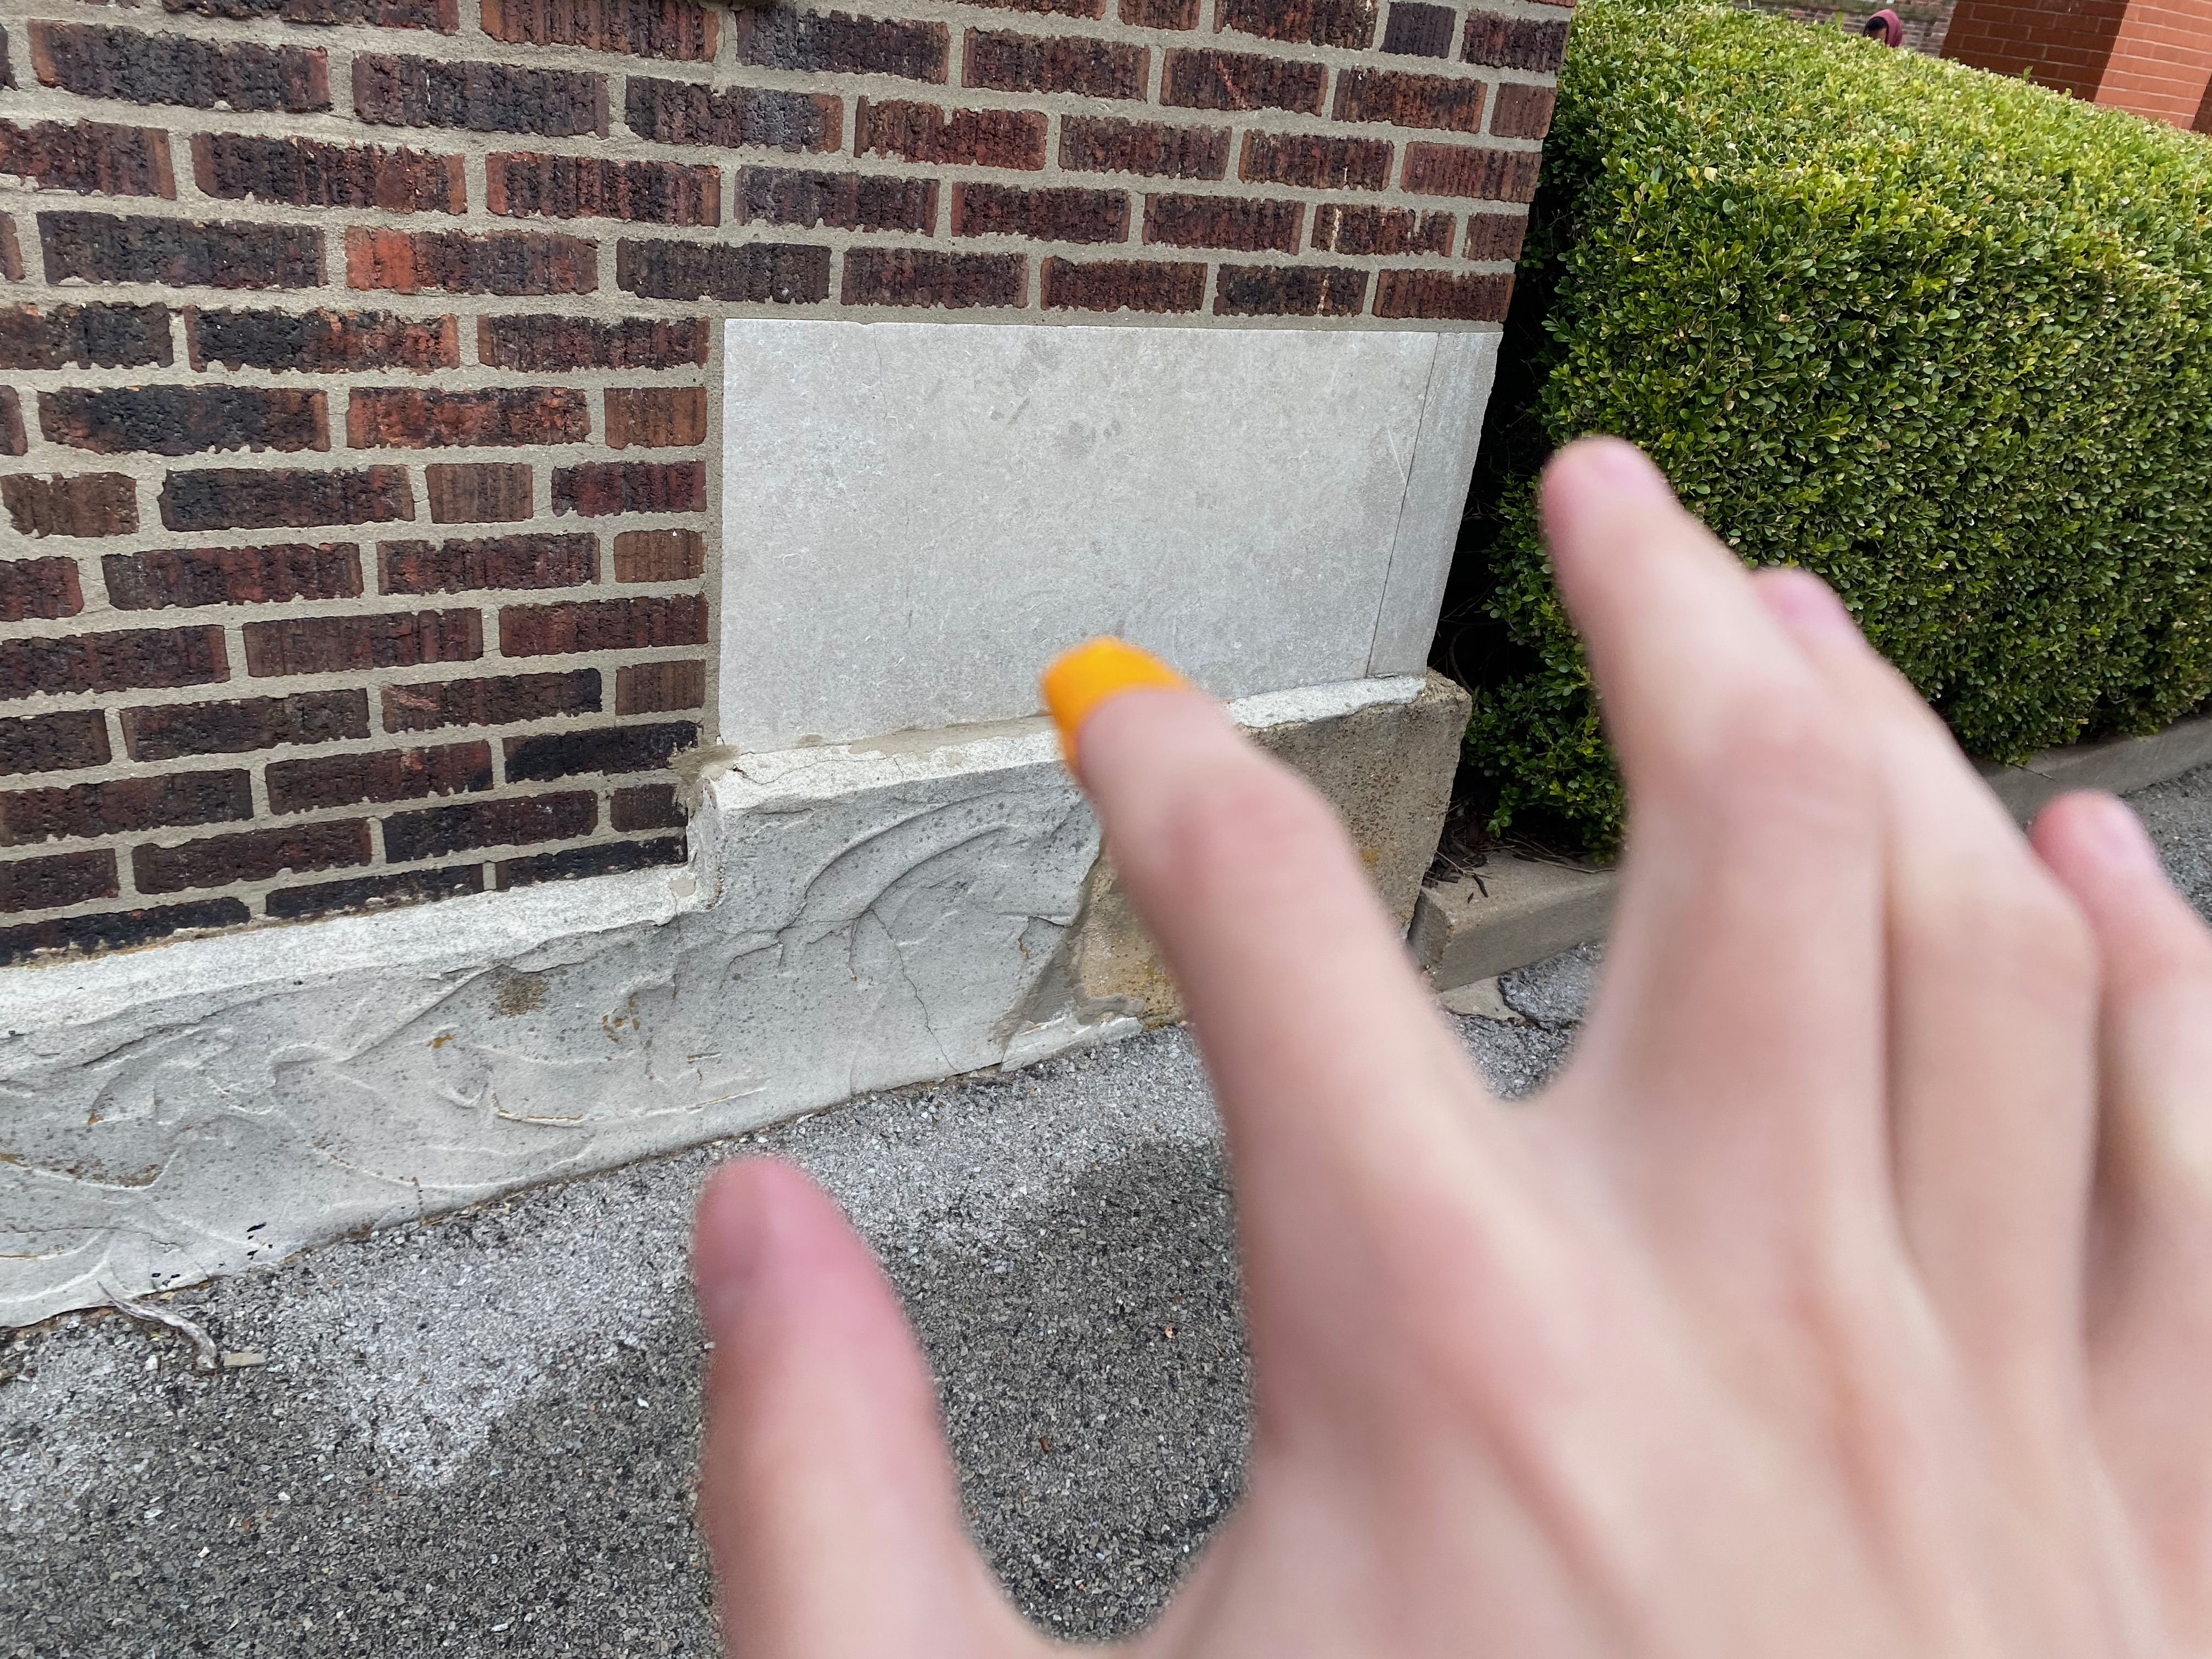fingertip: (1024, 603, 1247, 775)
